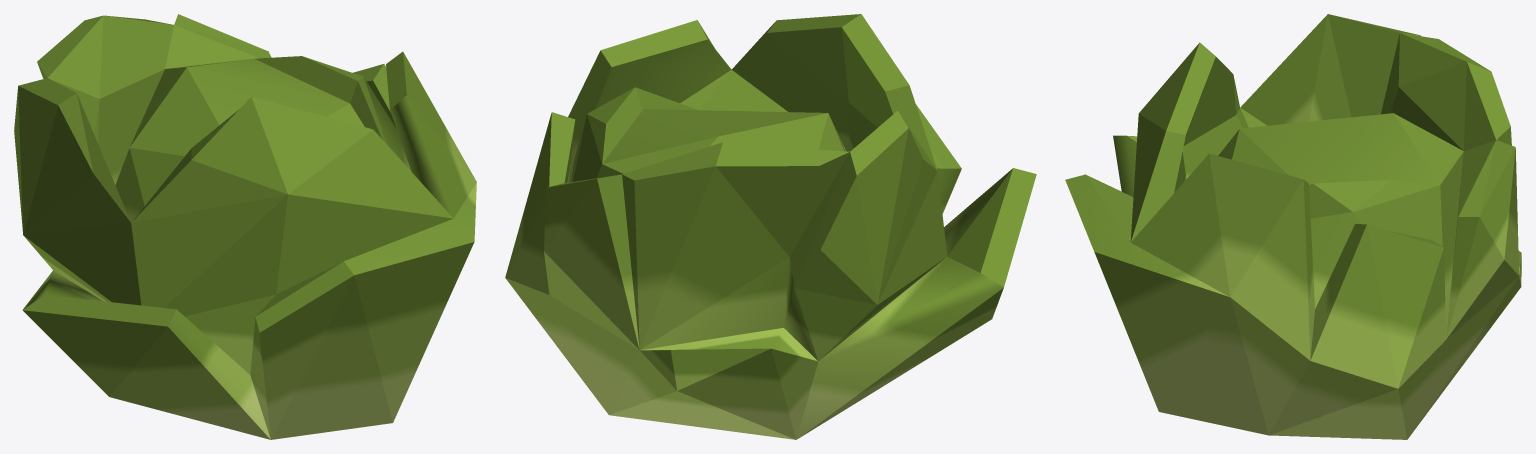
File: lettuce_plant.glb
3 renders of one model, left to right at view 1: azimuth 30°, elevation 25°; view 2: azimuth 150°, elevation 25°; view 3: azimuth 270°, elevation 25°, orthographic. The views are drawn at different scales.
Visible parts, largest first — view 1: SM_Prop_Lettuce_01_L; view 2: SM_Prop_Lettuce_01_L; view 3: SM_Prop_Lettuce_01_L.
Boxes of the visible parts, x1,y1,x2,y2 form: SM_Prop_Lettuce_01_L: (14, 14, 476, 439); SM_Prop_Lettuce_01_L: (505, 14, 1036, 439); SM_Prop_Lettuce_01_L: (1065, 14, 1521, 439).
Size of the model in its own units: 0.3013 by 0.2237 by 0.2773.
Materials: 1 (1 with a texture image).
